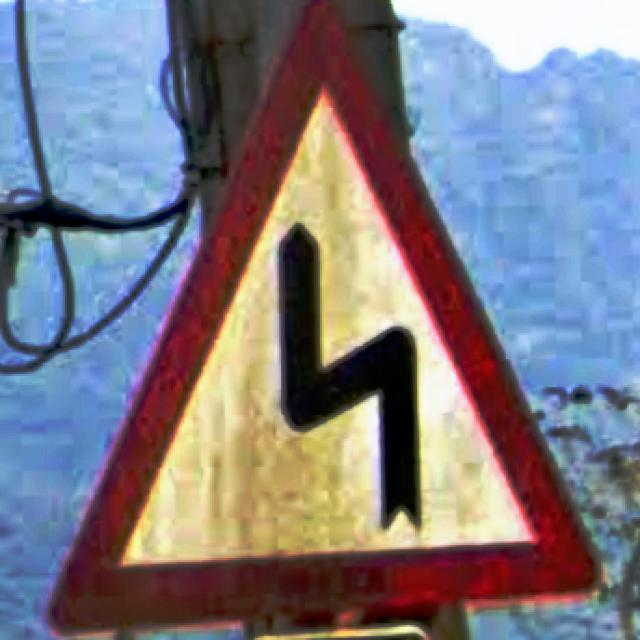doublebendleft: (48, 0, 601, 633)
